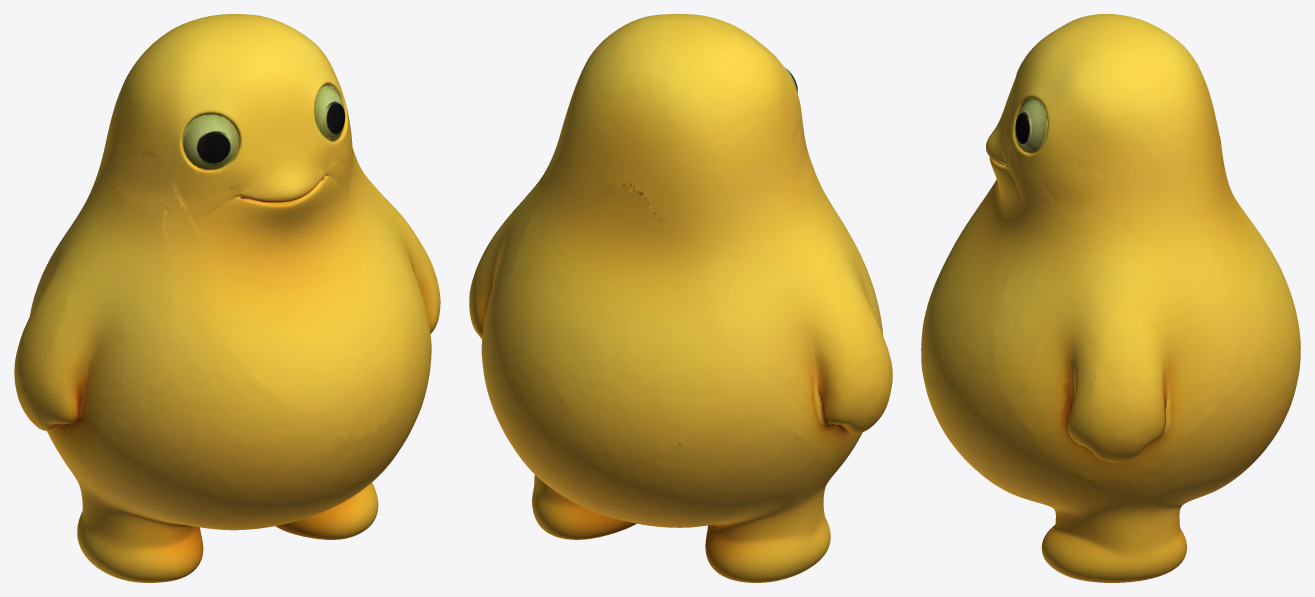
The model's file is yellow-blob-static-v03.glb.
The picture shows the model from 3 angles, left to right: view 1: azimuth 30°, elevation 25°; view 2: azimuth 150°, elevation 25°; view 3: azimuth 270°, elevation 25°; orthographic projection. The views are drawn at different scales.
Parts seen in each view (by area): view 1: tripo_node_605f1c18-38bb-40db-b4f3-49a305ec0db8; view 2: tripo_node_605f1c18-38bb-40db-b4f3-49a305ec0db8; view 3: tripo_node_605f1c18-38bb-40db-b4f3-49a305ec0db8.
Boxes of the visible parts, x1,y1,x2,y2 form: tripo_node_605f1c18-38bb-40db-b4f3-49a305ec0db8: [14, 14, 440, 582]; tripo_node_605f1c18-38bb-40db-b4f3-49a305ec0db8: [469, 14, 892, 582]; tripo_node_605f1c18-38bb-40db-b4f3-49a305ec0db8: [921, 14, 1300, 582].
Bounding box in the file's own units: 0.8242 × 0.9995 × 0.6899.
2 materials, 2 textured.
